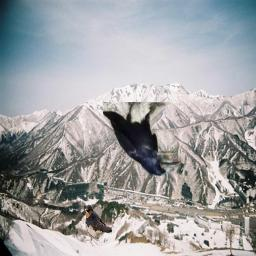Crow: (103, 102, 181, 176)
Swallow: (84, 204, 112, 241)
